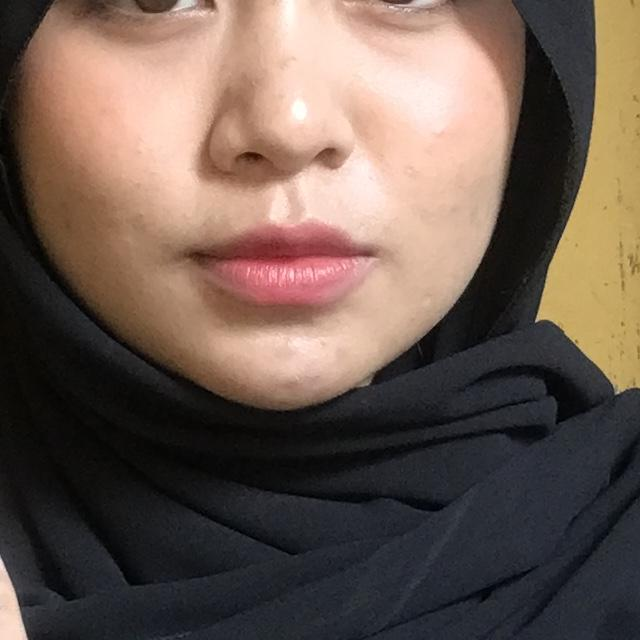kapan: (0, 336, 355, 640)
